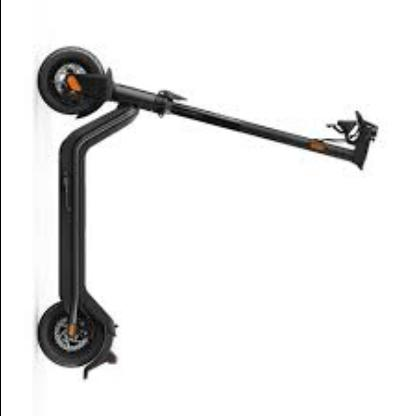bike: (36, 44, 388, 382)
